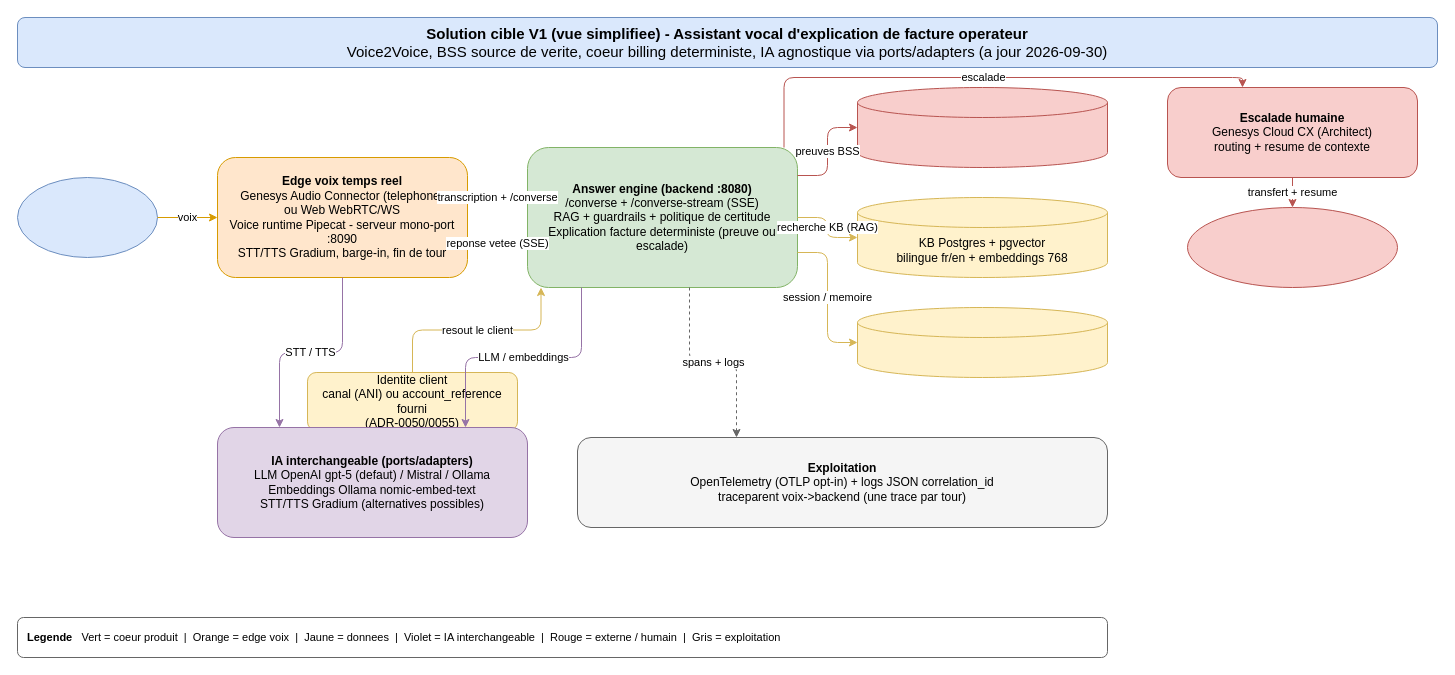
This 1455x675 diagram has some shape labels left out. Each missing label, with the centre of its shape:
Agent humain support facturation: the point at 1292,247
BSS operateur - lecture seule billing-api + PDF facture (source de verite): the point at 982,127
Client operateur (voix): the point at 87,217
Redis sessions + memoire conversation: the point at 982,342
